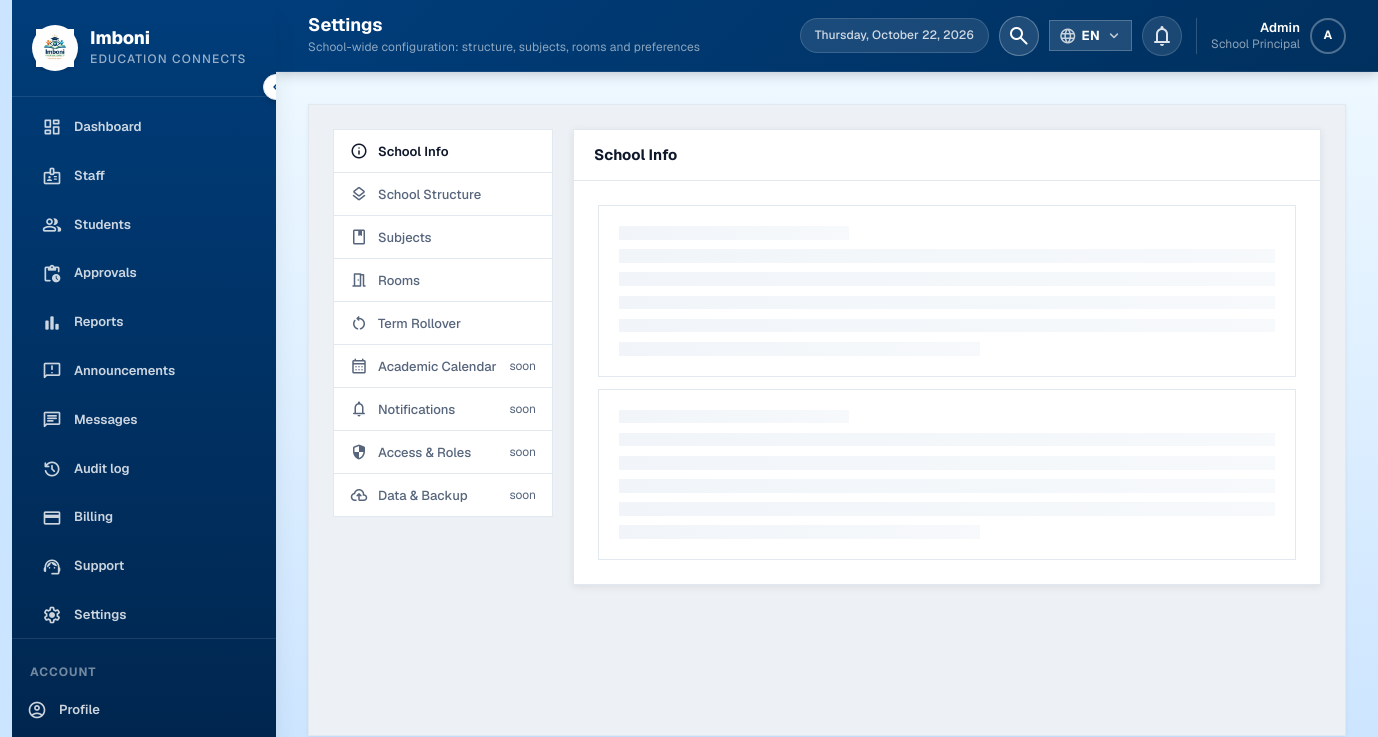
it: AdminSettings › adds a section to the draft without saving it
The width and height of the screenshot is (1378, 737).
Click the button "School Structure": (443, 194) [334, 173, 552, 216]
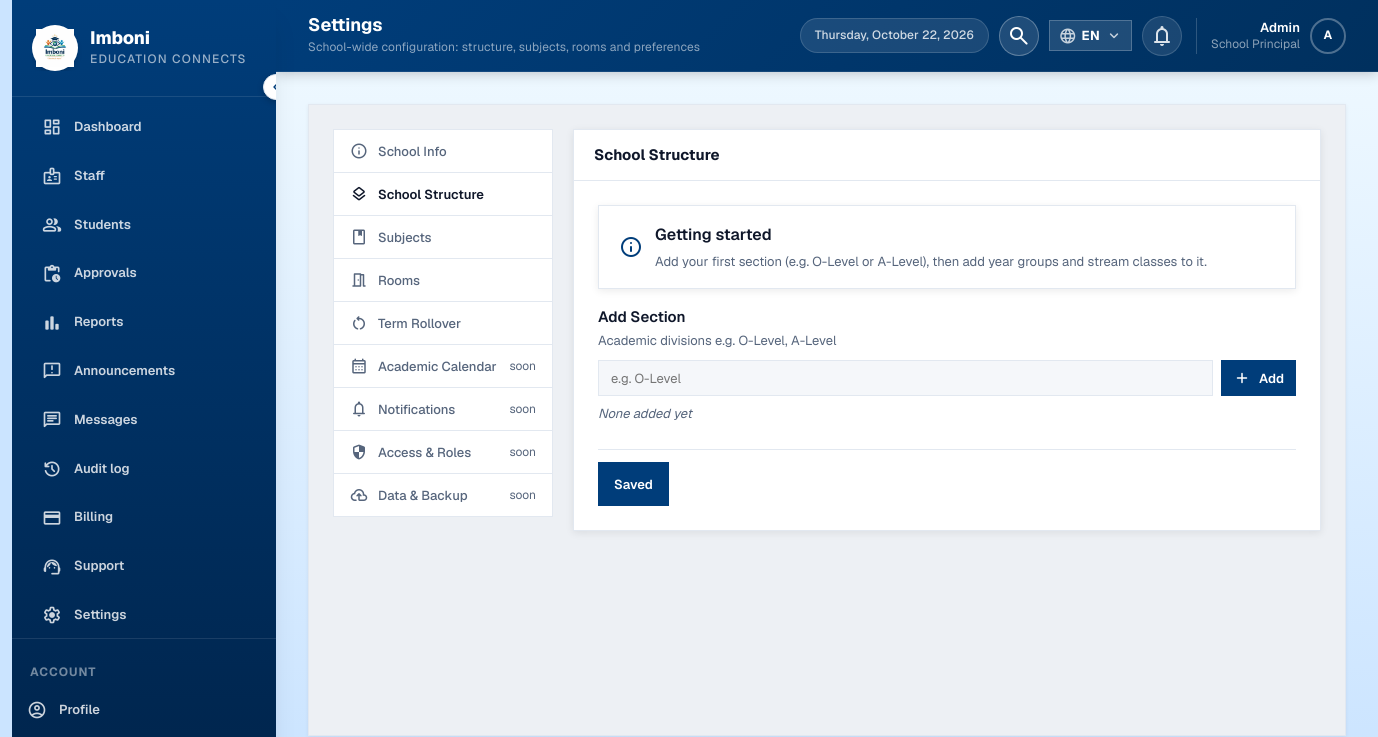
Expected: the text "Getting started" is shown, [655, 224, 772, 245]
In the field with placeholder "e.g. O-Level": (906, 378) [598, 360, 1213, 396], type "O-Level"
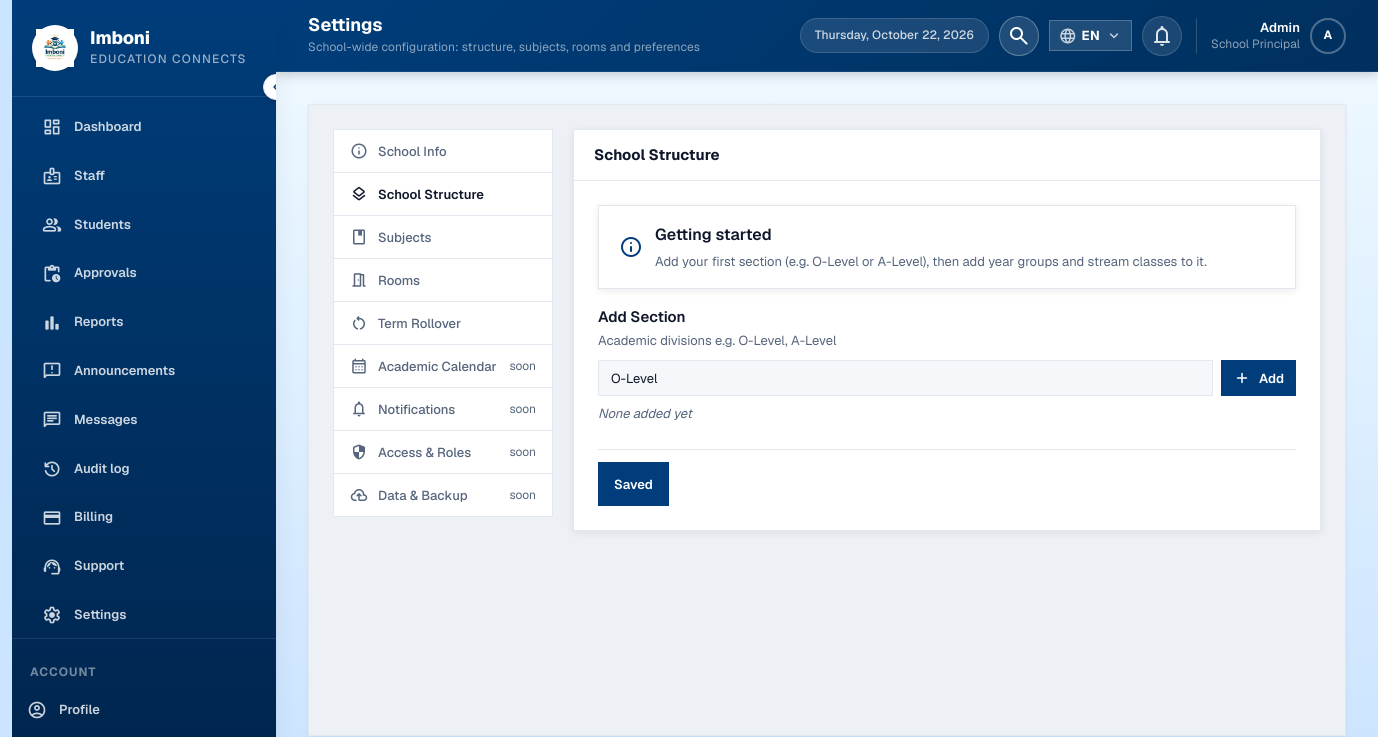
Click the button "Add": (1259, 378) [1221, 360, 1296, 396]
(page scrolled)
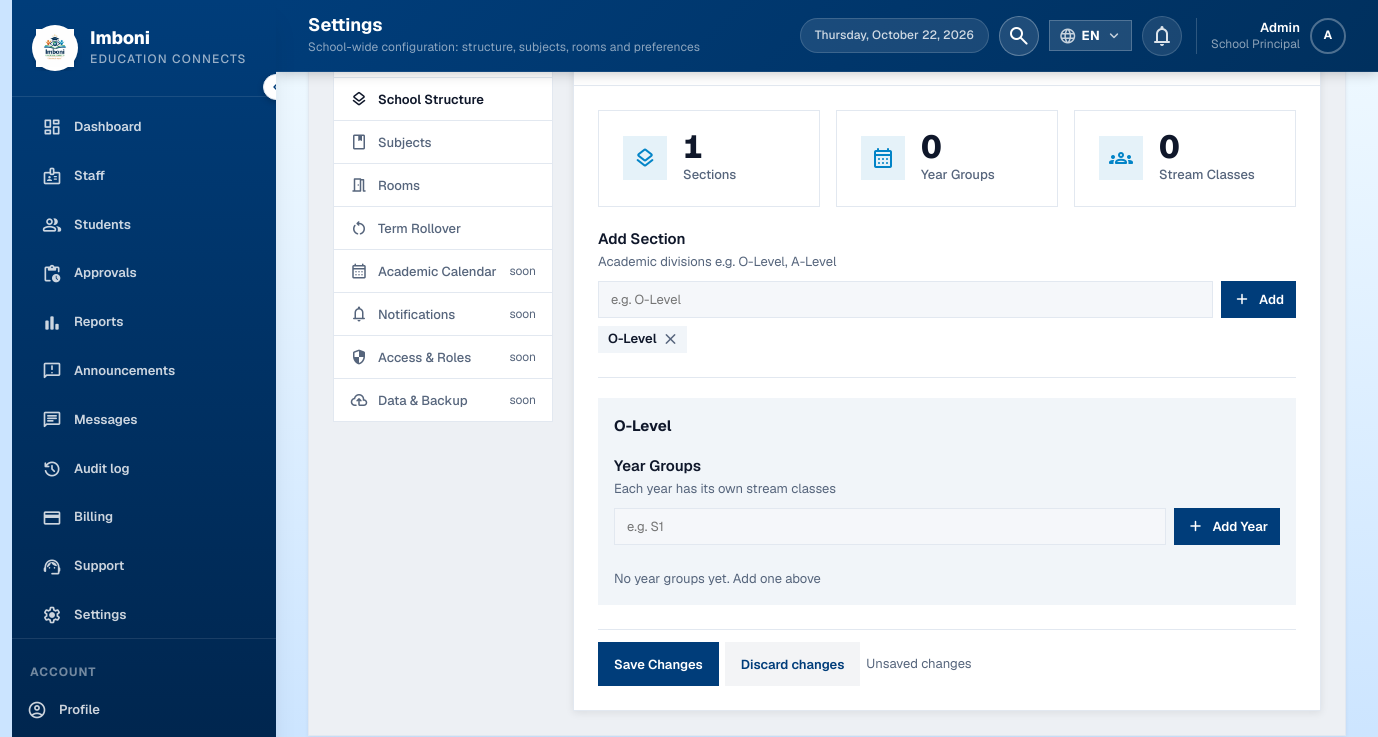
Expected: the text "Unsaved changes" is shown, [866, 654, 972, 675]
